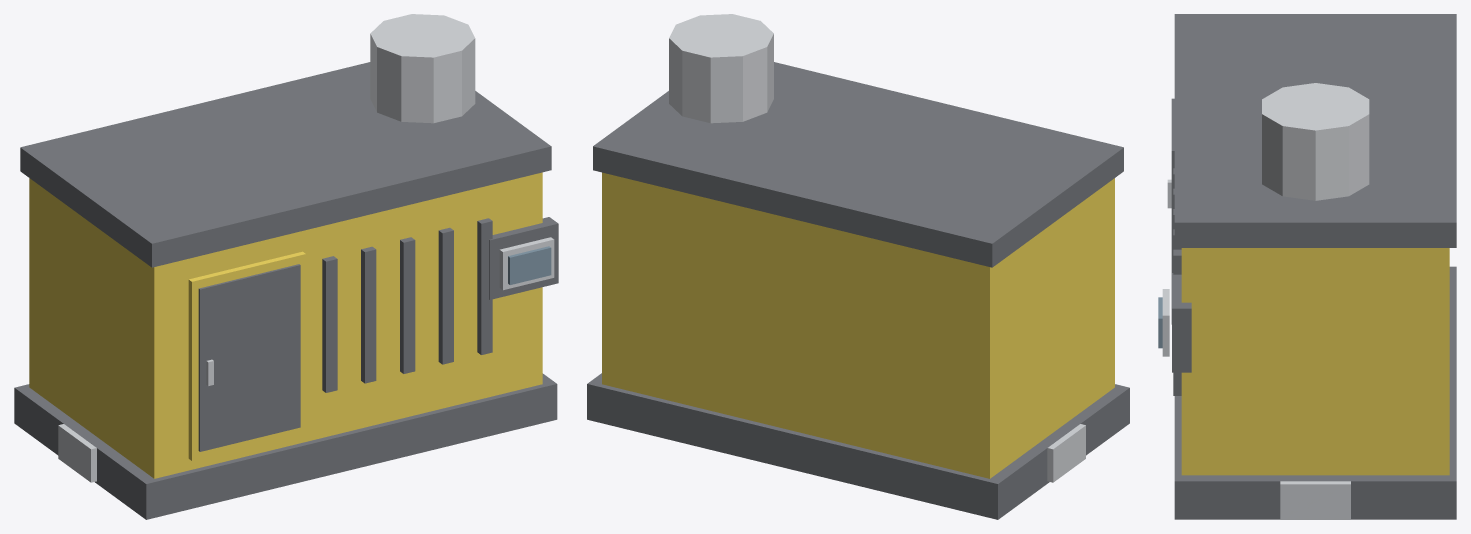
The model's file is rocket-launch-pad-and-gantry-ground-power-unit-97dc2075__38199.glb.
3 renders of one model, left to right at view 1: azimuth 30°, elevation 25°; view 2: azimuth 150°, elevation 25°; view 3: azimuth 270°, elevation 25°, orthographic. The views are drawn at different scales.
Parts seen in each view (by area): view 1: ground-power-unit, door-gpu/charcoal, door-gpu/yellow; view 2: ground-power-unit; view 3: ground-power-unit, door-gpu/charcoal.
Boxes of the visible parts, box(x1,y1,x2,y2) form: ground-power-unit: box(14, 14, 558, 519); door-gpu/charcoal: box(198, 264, 300, 451); door-gpu/yellow: box(188, 251, 305, 460); ground-power-unit: box(587, 14, 1129, 519); ground-power-unit: box(1158, 14, 1456, 519); door-gpu/charcoal: box(1171, 98, 1174, 324).
Bounding box in the file's own units: 3.7 × 2.95 × 2.12.
